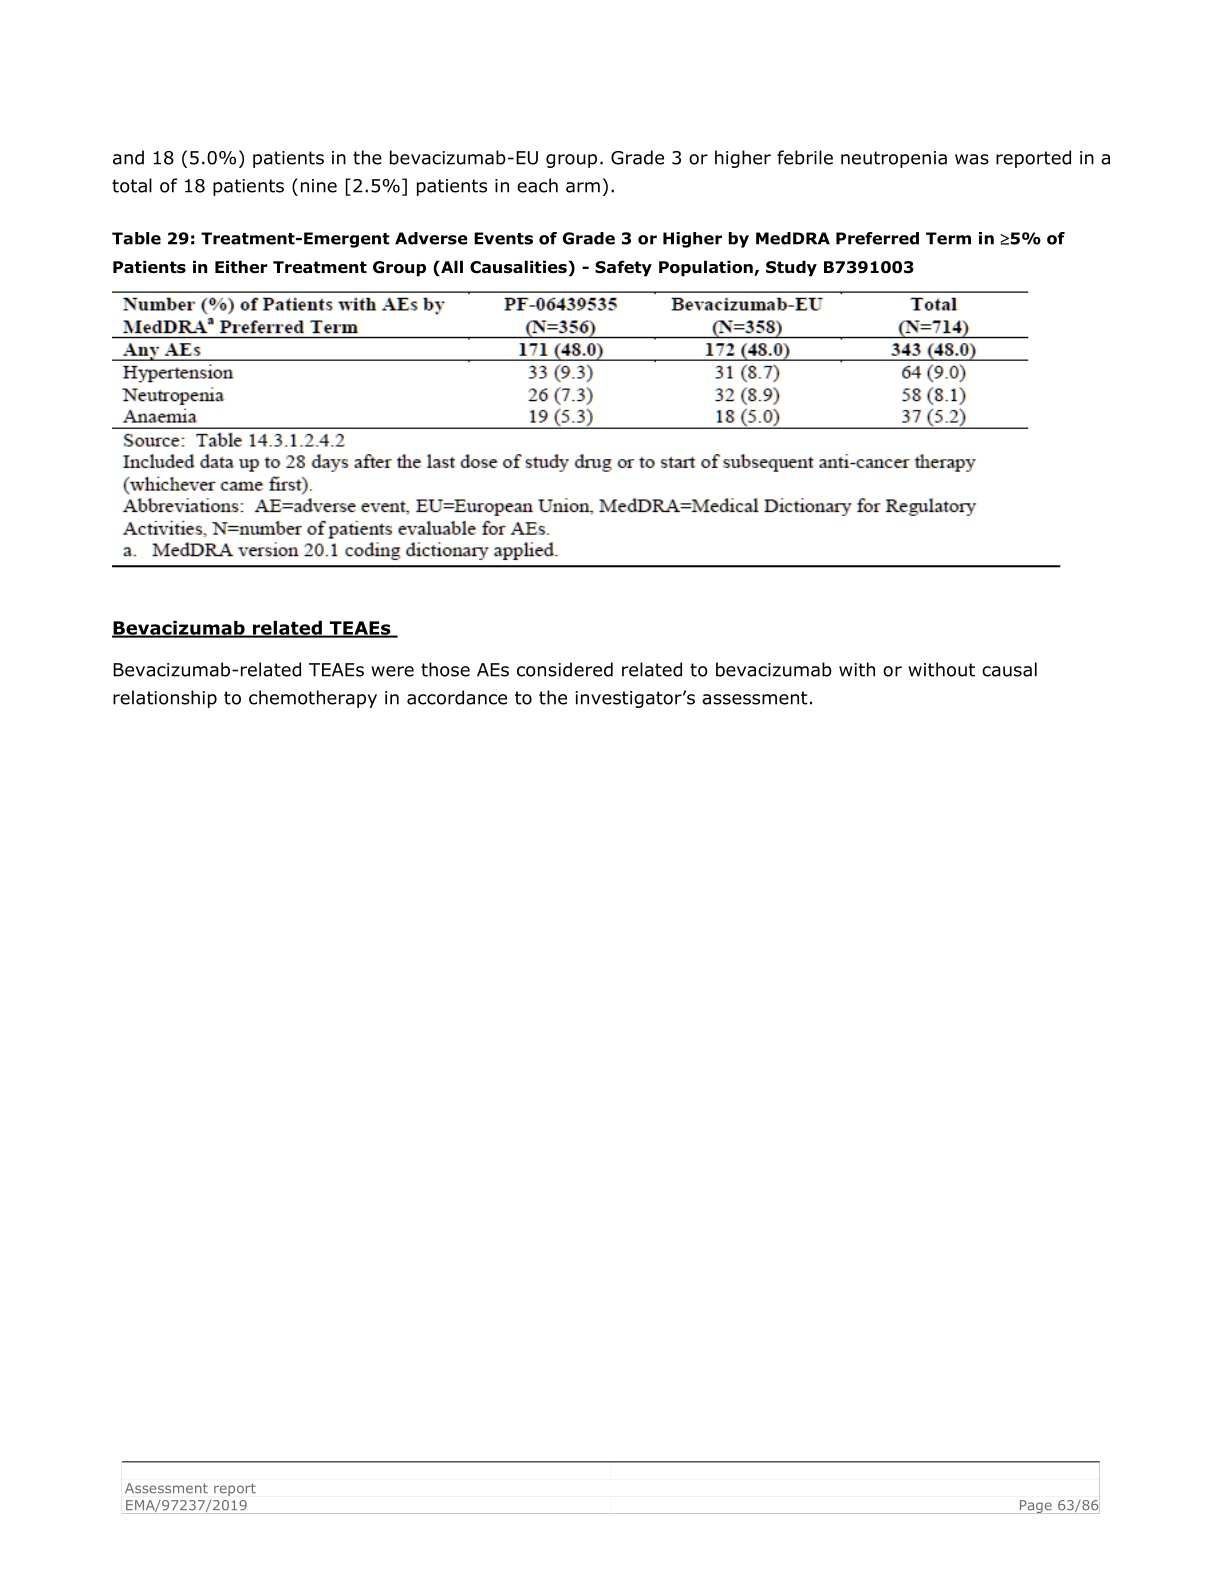partial_lined: (111, 291, 1029, 429)
